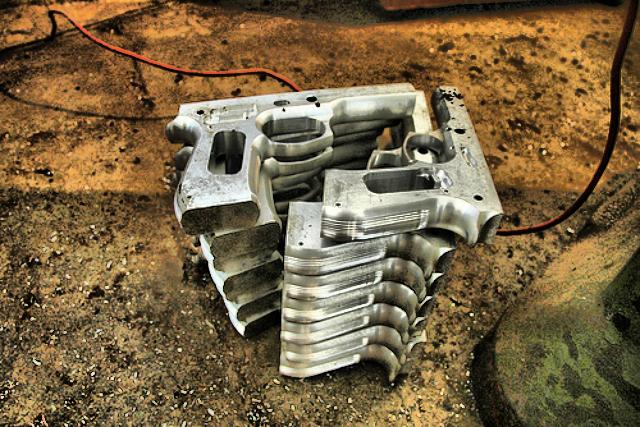pistol: (164, 78, 414, 236), (320, 82, 502, 244)
